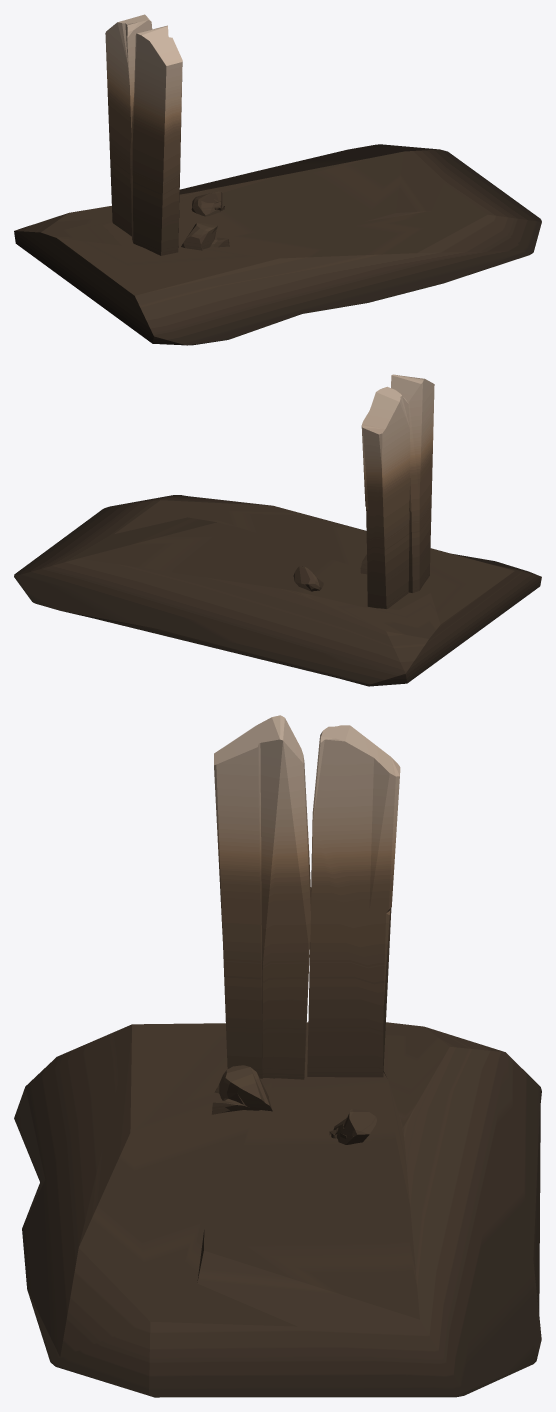
The model's file is EA_Grave_Mud_Plank_01a.glb.
The picture shows the model from 3 angles, top to bottom: view 1: azimuth 30°, elevation 25°; view 2: azimuth 150°, elevation 25°; view 3: azimuth 270°, elevation 25°; orthographic projection. The views are drawn at different scales.
Parts seen in each view (by area): view 1: EA_Grave_Mud_Plank_01a; view 2: EA_Grave_Mud_Plank_01a; view 3: EA_Grave_Mud_Plank_01a.
Boxes of the visible parts, box(x1,y1,x2,y2) form: EA_Grave_Mud_Plank_01a: box(14, 14, 541, 345); EA_Grave_Mud_Plank_01a: box(14, 374, 541, 686); EA_Grave_Mud_Plank_01a: box(14, 715, 541, 1397).
Size of the model in its own units: 2.75 by 1.55 by 1.87.
1 material, 1 textured.
